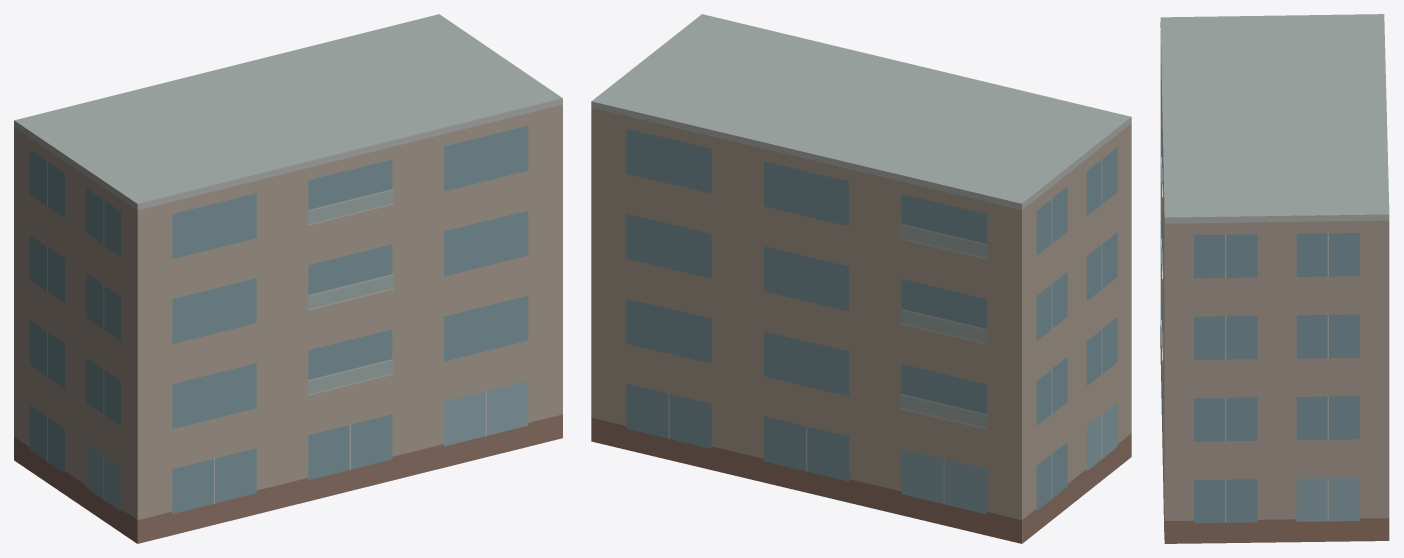
Rendered from survey-upis-32629503.glb.
3 views of the same model, side by side, from view 1: azimuth 30°, elevation 25°; view 2: azimuth 150°, elevation 25°; view 3: azimuth 270°, elevation 25° (orthographic). The views are drawn at different scales.
Visible parts, largest first — view 1: survey-upis-32629503.tmp; view 2: survey-upis-32629503.tmp; view 3: survey-upis-32629503.tmp.
Part boxes in pixels (x1,y1,x2,y2): survey-upis-32629503.tmp: (14,14,562,543); survey-upis-32629503.tmp: (591,14,1131,543); survey-upis-32629503.tmp: (1160,14,1389,543).
Size of the model in its own units: 17.26 by 12.9 by 8.21.
